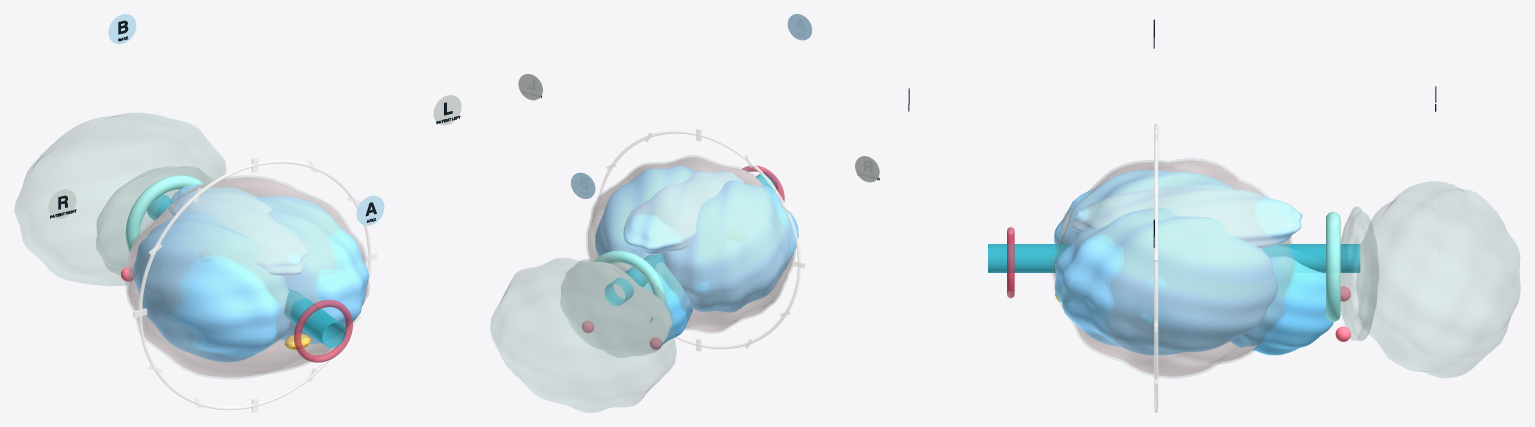
Rendered from turp_prostate_checkpoint1.demo.glb.
3 views of the same model, side by side, from view 1: azimuth 30°, elevation 25°; view 2: azimuth 150°, elevation 25°; view 3: azimuth 270°, elevation 25° (orthographic). The views are drawn at different scales.
Parts seen in each view (by area): view 1: prostate_capsule_outer_gland, ghosted_outer_capsule_before_shell, semi_transparent_bladder_context, patient_right_lateral_lobe, patient_left_lateral_lobe, anterior_roof_transition_zone_tissue, shallow_bladder_neck_context, clock_face_12_anterior_ring, prostatic_urethra_stub, bladder_neck_ring, external_sphincter_safety_boundary, orientation_apex_badge_disc (+3 smaller); view 2: semi_transparent_bladder_context, prostate_capsule_outer_gland, ghosted_outer_capsule_before_shell, patient_right_lateral_lobe, shallow_bladder_neck_context, anterior_roof_transition_zone_tissue, patient_left_lateral_lobe, clock_face_12_anterior_ring, median_lobe_intravesical_bulge, prostatic_urethra_stub, bladder_neck_ring, orientation_apex_badge_disc (+3 smaller); view 3: prostate_capsule_outer_gland, ghosted_outer_capsule_before_shell, semi_transparent_bladder_context, patient_left_lateral_lobe, anterior_roof_transition_zone_tissue, median_lobe_intravesical_bulge, shallow_bladder_neck_context, prostatic_urethra_stub, patient_right_lateral_lobe, bladder_neck_ring, clock_face_12_anterior_ring, external_sphincter_safety_boundary.
Part boxes in pixels (<box>): prostate_capsule_outer_gland: <box>127,177,367,376</box>; ghosted_outer_capsule_before_shell: <box>125,175,369,378</box>; semi_transparent_bladder_context: <box>14,113,225,285</box>; patient_right_lateral_lobe: <box>132,211,289,362</box>; patient_left_lateral_lobe: <box>256,196,368,344</box>; anterior_roof_transition_zone_tissue: <box>168,185,309,278</box>; shallow_bladder_neck_context: <box>96,166,213,275</box>; clock_face_12_anterior_ring: <box>138,160,371,410</box>; prostatic_urethra_stub: <box>147,194,345,347</box>; bladder_neck_ring: <box>125,175,203,252</box>; external_sphincter_safety_boundary: <box>294,300,352,362</box>; orientation_apex_badge_disc: <box>356,195,384,225</box>; semi_transparent_bladder_context: <box>490,258,676,412</box>; prostate_capsule_outer_gland: <box>588,157,793,331</box>; ghosted_outer_capsule_before_shell: <box>586,155,795,333</box>; patient_right_lateral_lobe: <box>662,180,798,312</box>; shallow_bladder_neck_context: <box>560,256,672,357</box>; anterior_roof_transition_zone_tissue: <box>623,171,743,254</box>; patient_left_lateral_lobe: <box>595,165,695,258</box>; clock_face_12_anterior_ring: <box>598,130,800,349</box>; median_lobe_intravesical_bulge: <box>624,262,692,345</box>; prostatic_urethra_stub: <box>604,172,777,305</box>; bladder_neck_ring: <box>594,250,666,322</box>; orientation_apex_badge_disc: <box>787,14,812,40</box>; prostate_capsule_outer_gland: <box>1053,160,1292,376</box>; ghosted_outer_capsule_before_shell: <box>1051,158,1295,378</box>; semi_transparent_bladder_context: <box>1356,181,1520,377</box>; patient_left_lateral_lobe: <box>1054,208,1277,355</box>; anterior_roof_transition_zone_tissue: <box>1071,187,1302,248</box>; median_lobe_intravesical_bulge: <box>1230,248,1333,355</box>; shallow_bladder_neck_context: <box>1340,206,1378,340</box>; prostatic_urethra_stub: <box>988,244,1360,272</box>; patient_right_lateral_lobe: <box>1054,170,1233,243</box>; bladder_neck_ring: <box>1326,211,1340,321</box>; clock_face_12_anterior_ring: <box>1154,124,1158,408</box>; external_sphincter_safety_boundary: <box>1007,227,1014,298</box>.
Bounding box in the file's own units: 0.4083 × 0.2835 × 0.4934.
